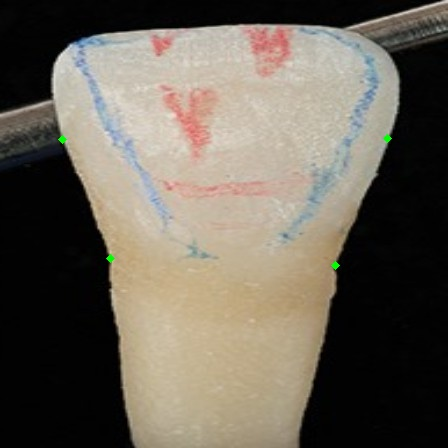coin_1: (335, 265, 355, 285)
coin_2: (387, 138, 407, 158)
coin_3: (110, 258, 130, 278)
coin_4: (62, 139, 82, 159)
